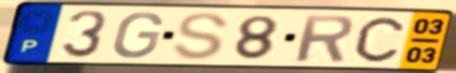3: (60, 9, 109, 60)
8: (232, 14, 283, 61)
C: (353, 15, 407, 64)
G: (110, 10, 166, 60)
R: (293, 13, 356, 63)
S: (170, 11, 232, 62)
